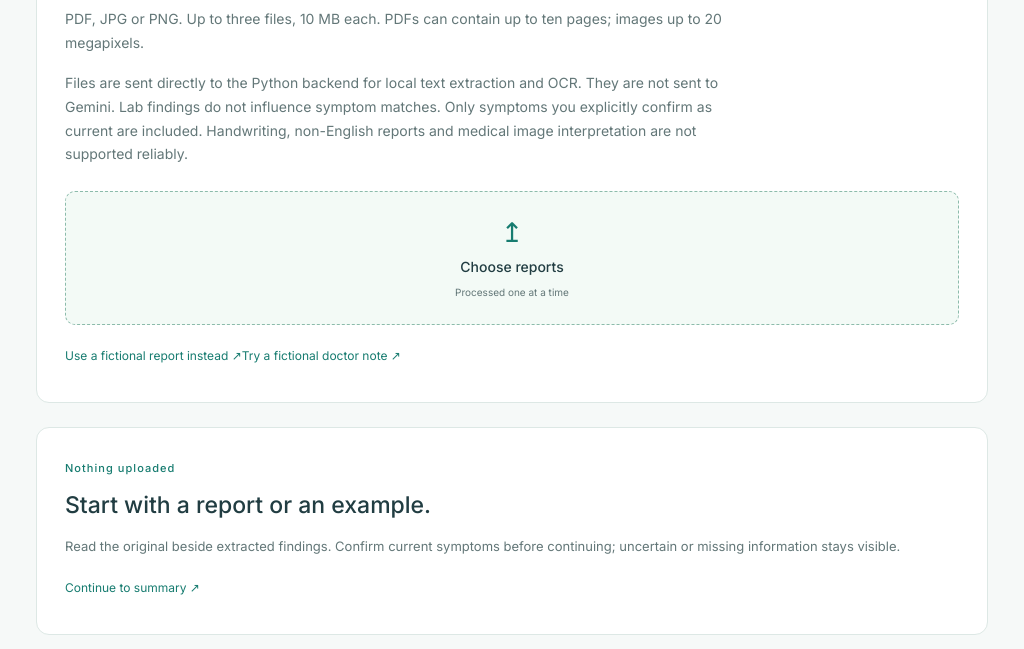
removing a report revokes its confirmed inputs and invalidates results
(page scrolled)
Click the button "Try a fictional doctor note ↗".
click(321, 356)  # box [242,337,401,374]
(page scrolled)
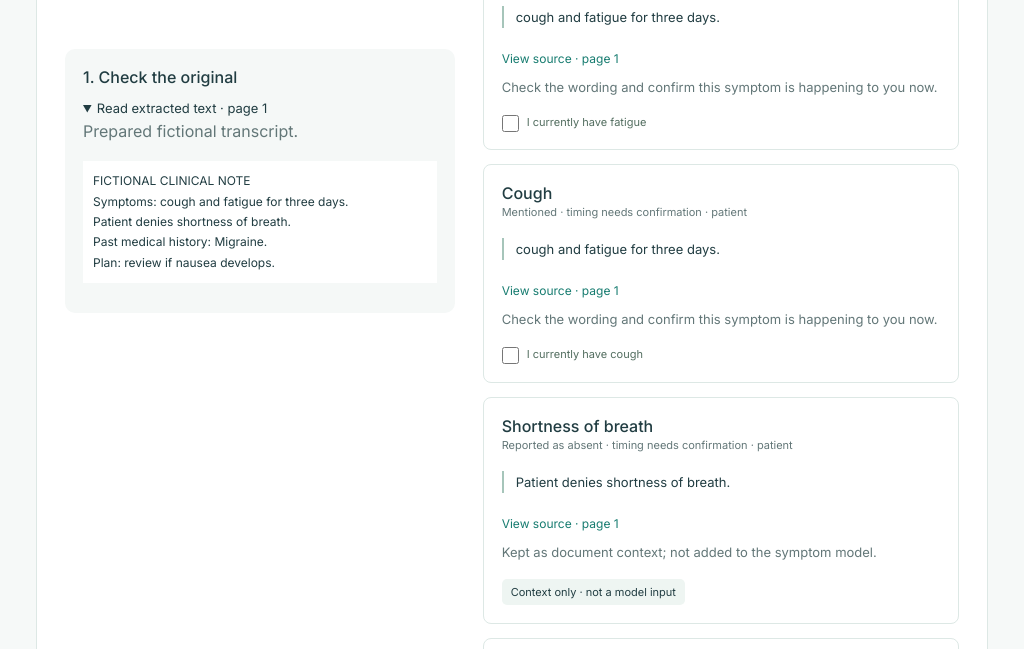
Click the checkbox labelled "I currently have cough".
click(510, 356)  # box [502,347,519,364]
(page scrolled)
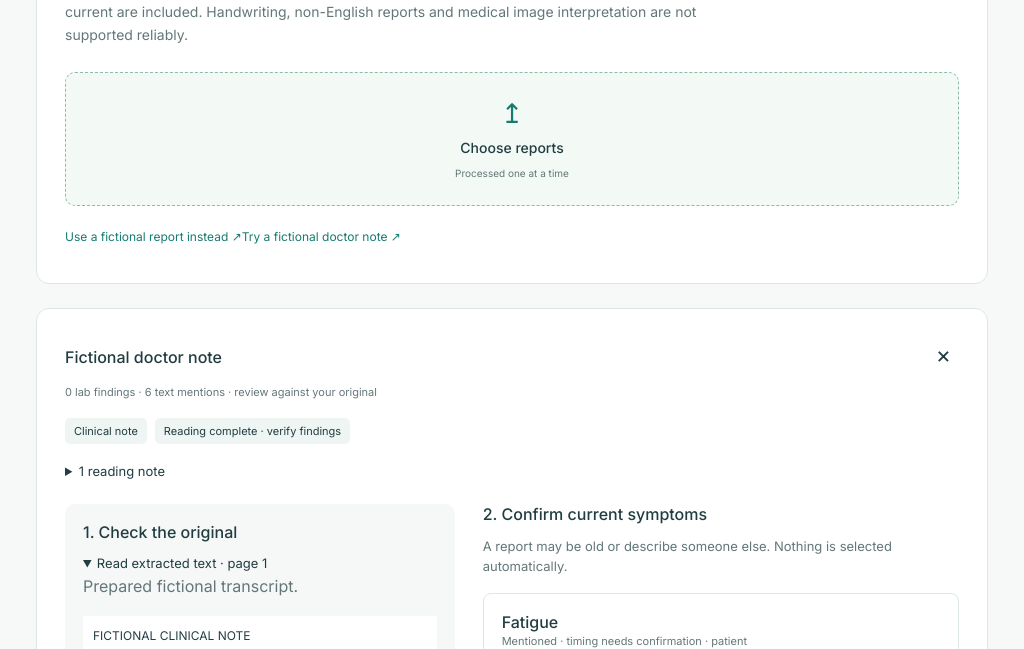
Click the button named "Remove Fictional doctor note".
click(943, 355)  # box [928,337,959,373]
(page scrolled)
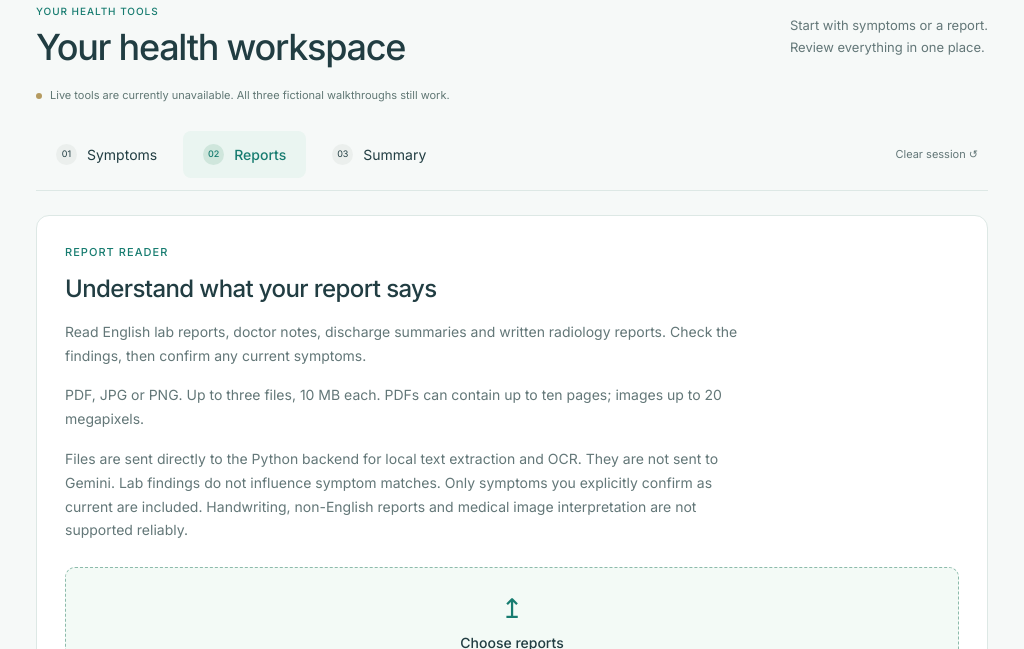
Click the tab named "01Symptoms".
click(107, 154)  # box [36,131,177,178]
(page scrolled)
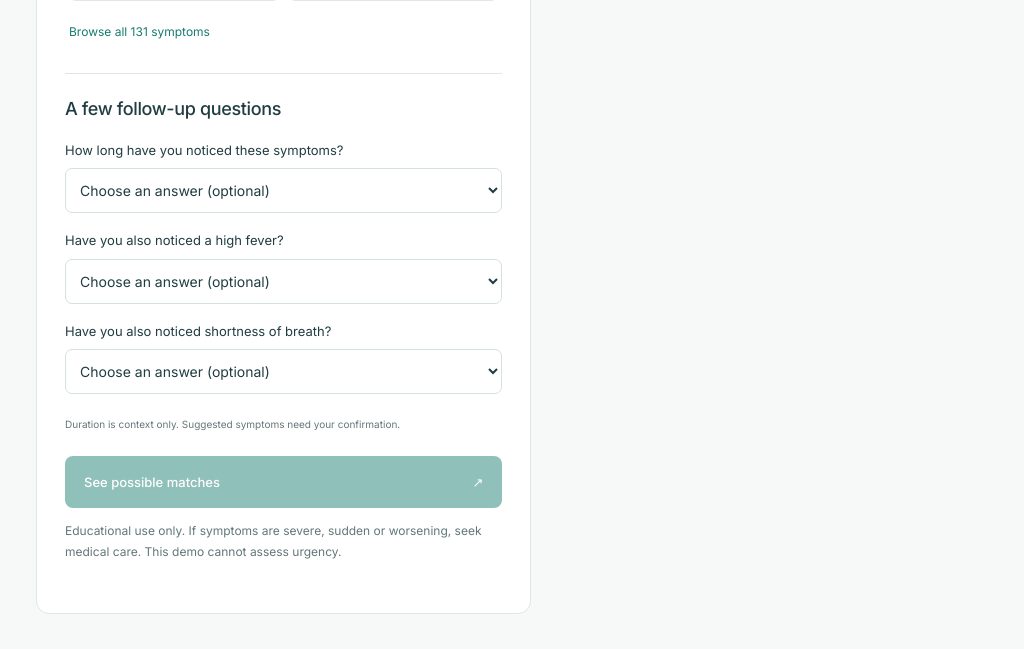
Check: the button "See possible matches ↗" is disabled, box [65,456,502,508]
